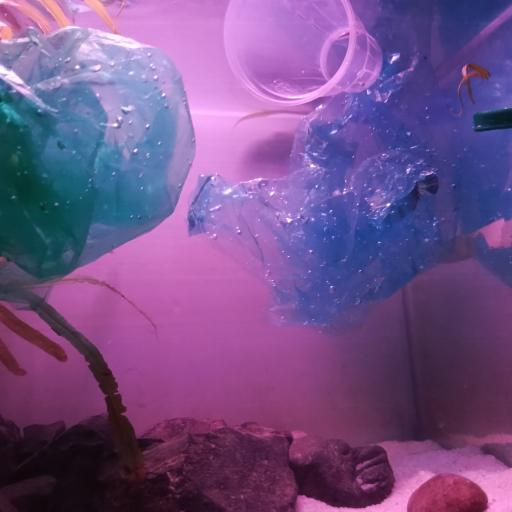plastic_bag: (191, 0, 509, 330), (1, 27, 196, 309)
plastic_cup: (223, 0, 385, 106), (472, 108, 512, 131)
